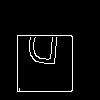D: (25, 25, 61, 74)
